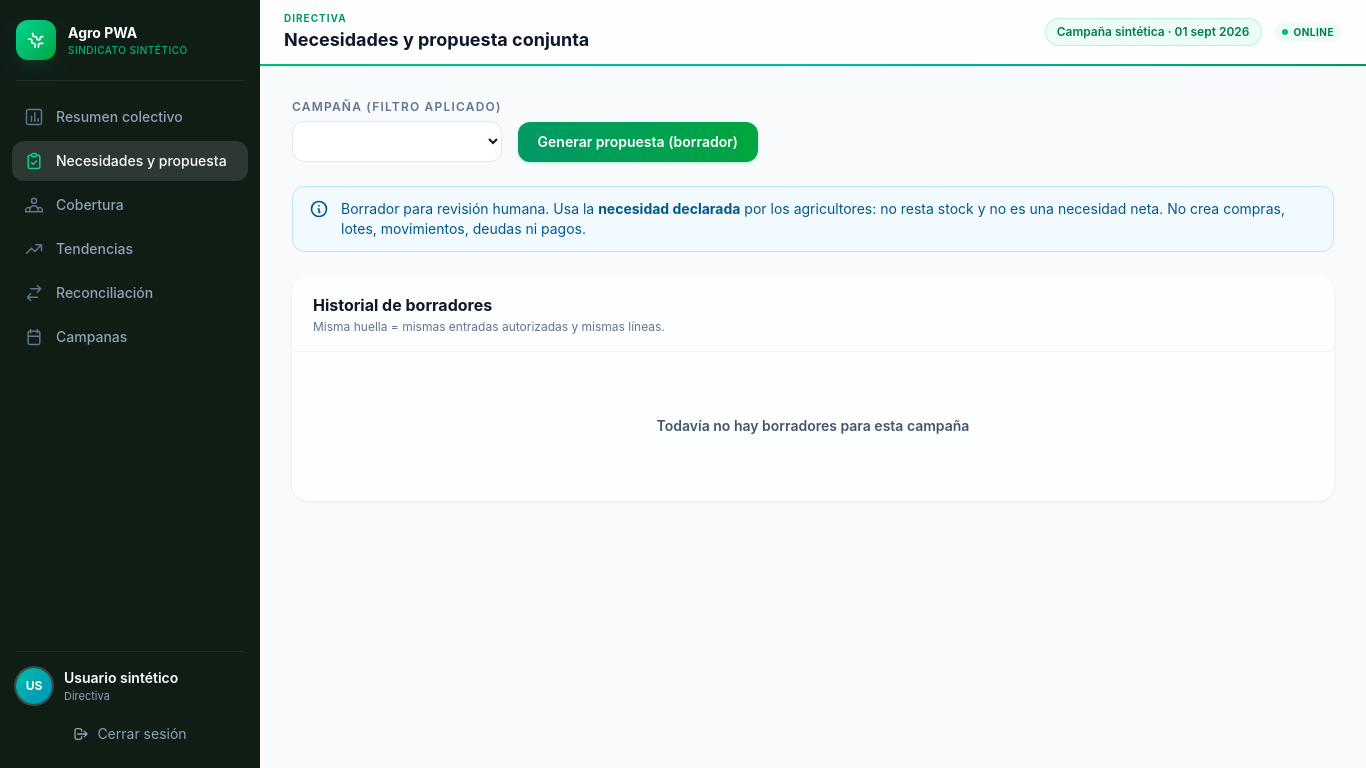
Test case: Propuesta de compra conjunta (borrador) › POLICY_PENDING al generar: lo explica y no muestra ninguna línea
Click the button "Generar propuesta (borrador)". click: (638, 142)
box: [518, 122, 758, 162]
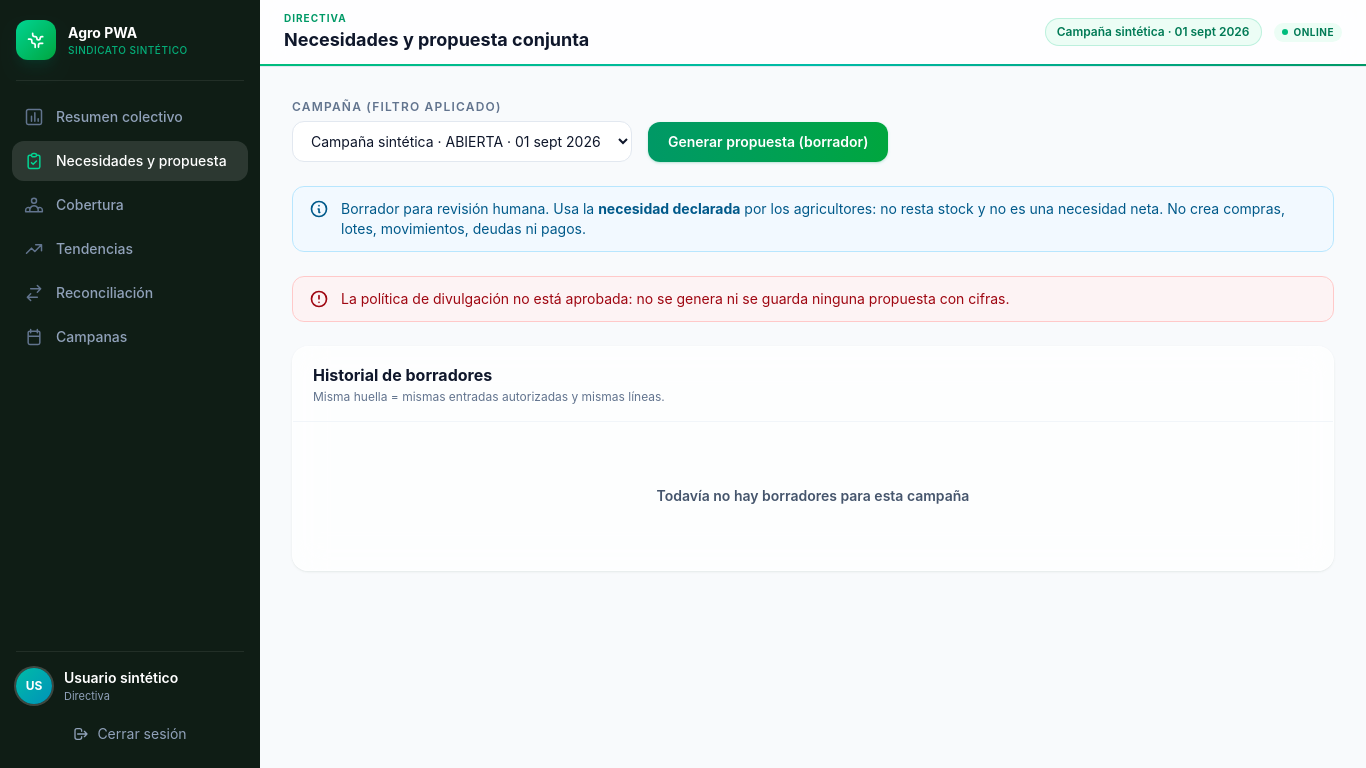
Now the text "no se genera ni se guarda ninguna propuesta con cifras" is shown, box [341, 290, 1010, 307]
